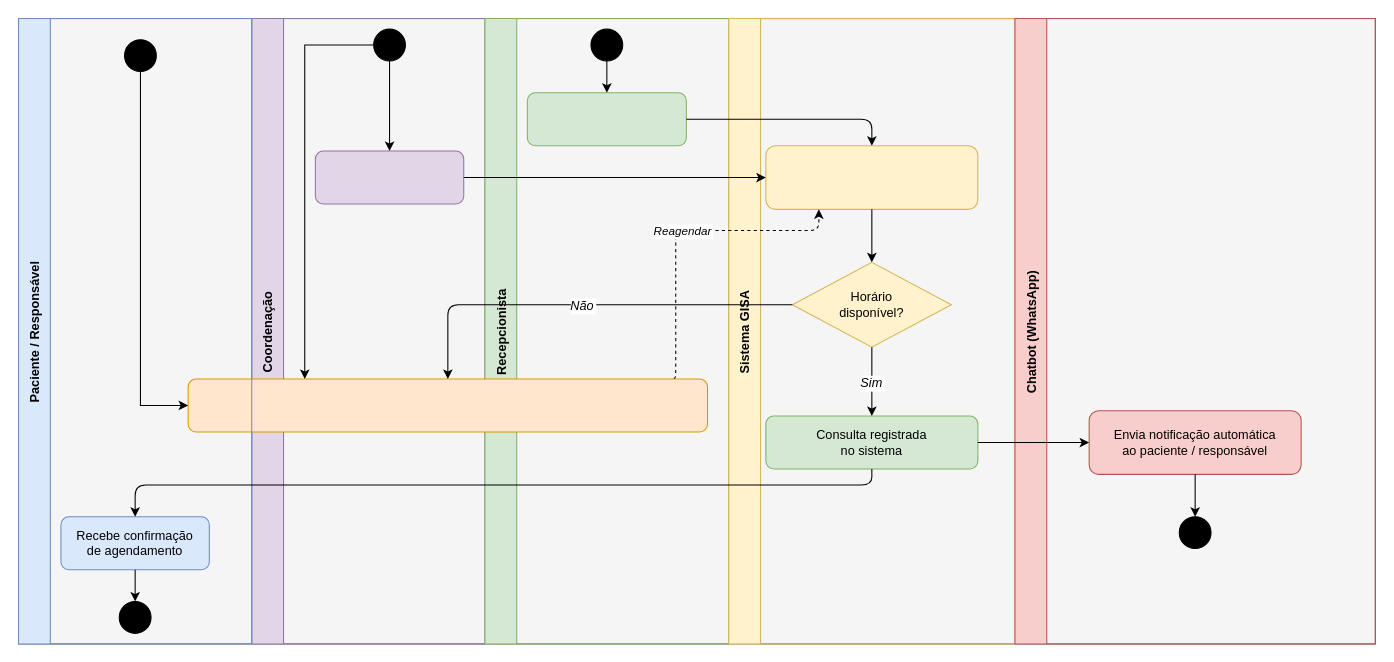
Image size: 1394x662. Some labels were removed from this diagram. Each missing label, with the centre of its shape:
"Inicia agendamento no sistema" belongs at pixel 606 119.
"Solicita um novo agendamento" belongs at pixel 389 177.
"Sugere horário alternativo" belongs at pixel 447 405.
"Verifica disponibilidade na agenda do profissional" belongs at pixel 871 177.
